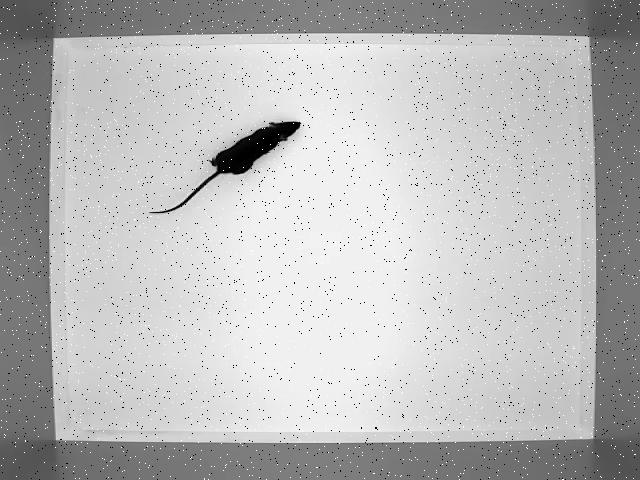Tikus: (152, 120, 300, 214)
